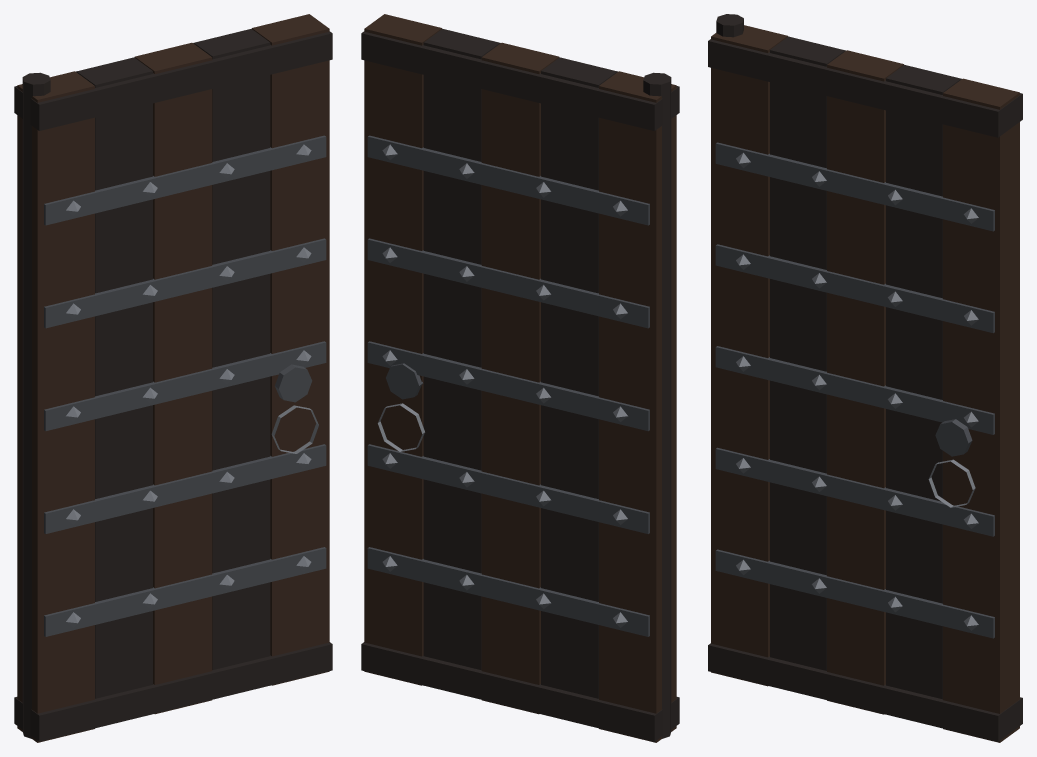
File: dojo_gate_door.fbx
3 views of the same model, side by side, from view 1: azimuth 30°, elevation 25°; view 2: azimuth 150°, elevation 25°; view 3: azimuth 330°, elevation 25° (orthographic).
Parts seen in each view (by area): view 1: dojo_gate_door; view 2: dojo_gate_door; view 3: dojo_gate_door.
Part boxes in pixels (x1,y1,x2,y2): dojo_gate_door: (14,14,332,742); dojo_gate_door: (361,14,679,742); dojo_gate_door: (708,14,1022,742).
Bounding box in the file's own units: 2.12 × 4.48 × 0.43.
